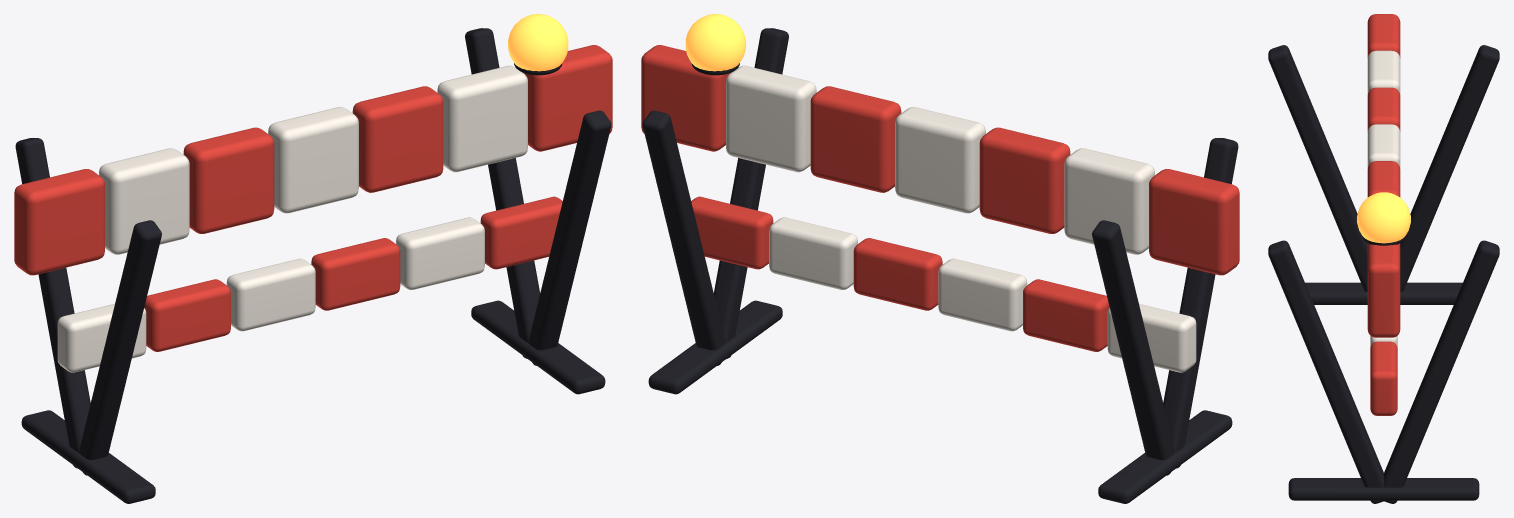
File: barricade.glb
The picture shows the model from 3 angles, left to right: view 1: azimuth 30°, elevation 25°; view 2: azimuth 150°, elevation 25°; view 3: azimuth 270°, elevation 25°; orthographic projection. The views are drawn at different scales.
Visible parts, largest first — view 1: barricade.012, lamp.010; view 2: barricade.012, lamp.010; view 3: barricade.012, lamp.010.
Boxes of the visible parts, x1,y1,x2,y2 form: barricade.012: [14, 28, 612, 503]; lamp.010: [508, 14, 568, 71]; barricade.012: [641, 28, 1239, 503]; lamp.010: [685, 14, 745, 71]; barricade.012: [1268, 14, 1499, 503]; lamp.010: [1357, 192, 1410, 243].
Size of the model in its own units: 2.22 by 1.24 by 0.8508.
Materials: 1 (1 with a texture image).
